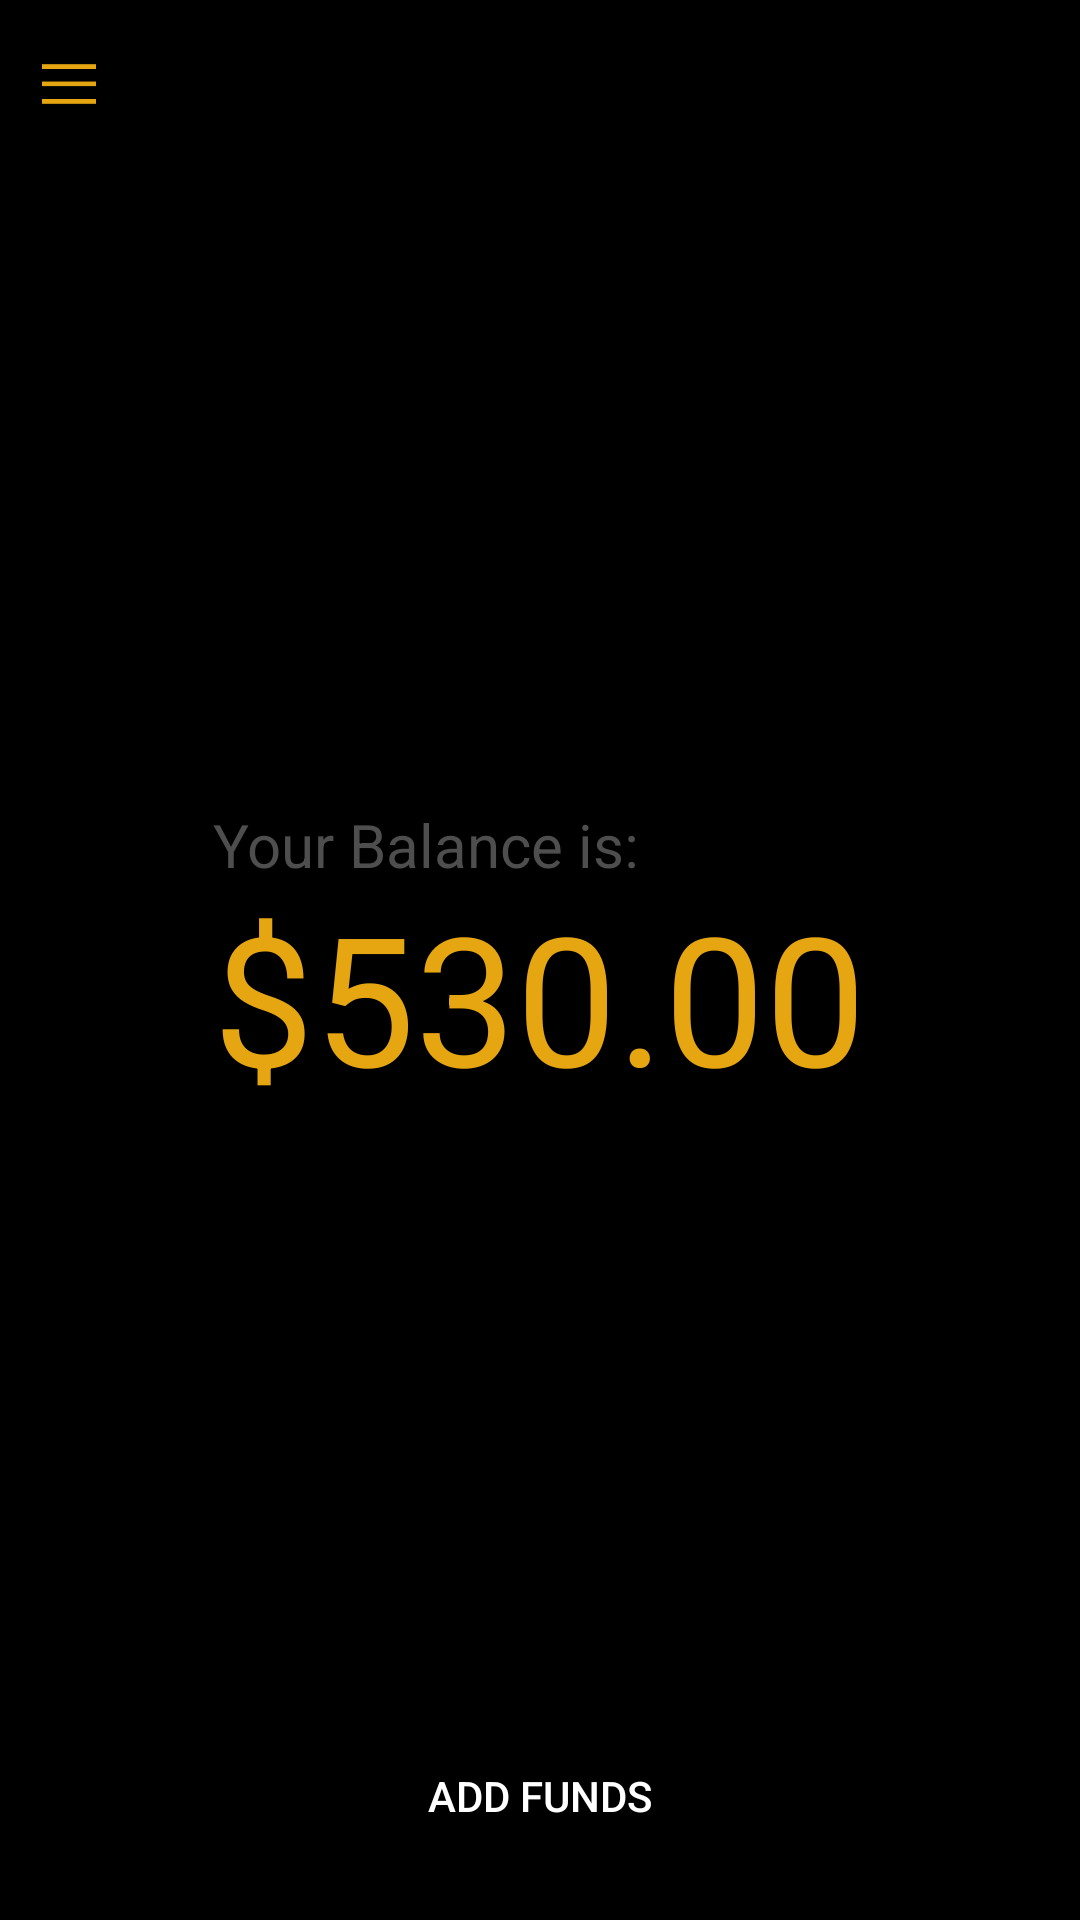

Point at icon controls on the screen. Image size 1080 × 1920, points as (x=x, y=y).
menu: (x=69, y=84)
